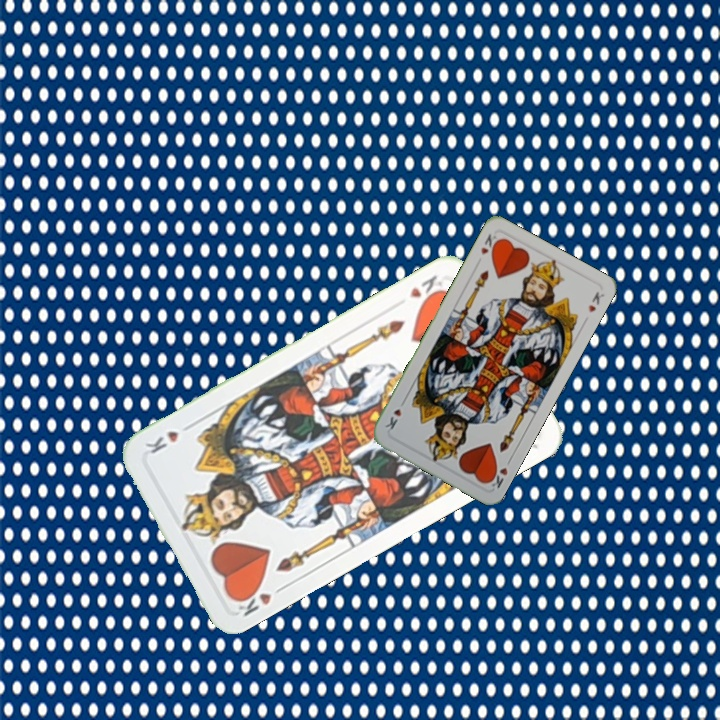HK: (231, 581, 289, 619), (405, 271, 449, 307), (484, 454, 514, 491), (477, 230, 502, 258)
